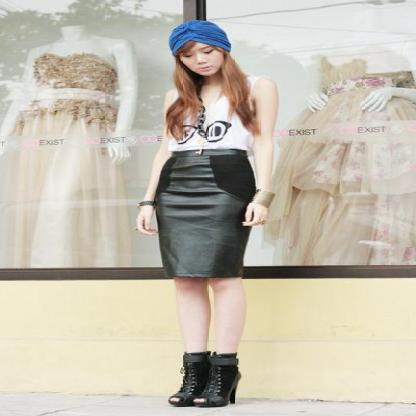hat: (169, 20, 231, 58)
shirt: (184, 97, 248, 153)
shoe: (168, 351, 240, 407)
skirt: (139, 149, 258, 287)
